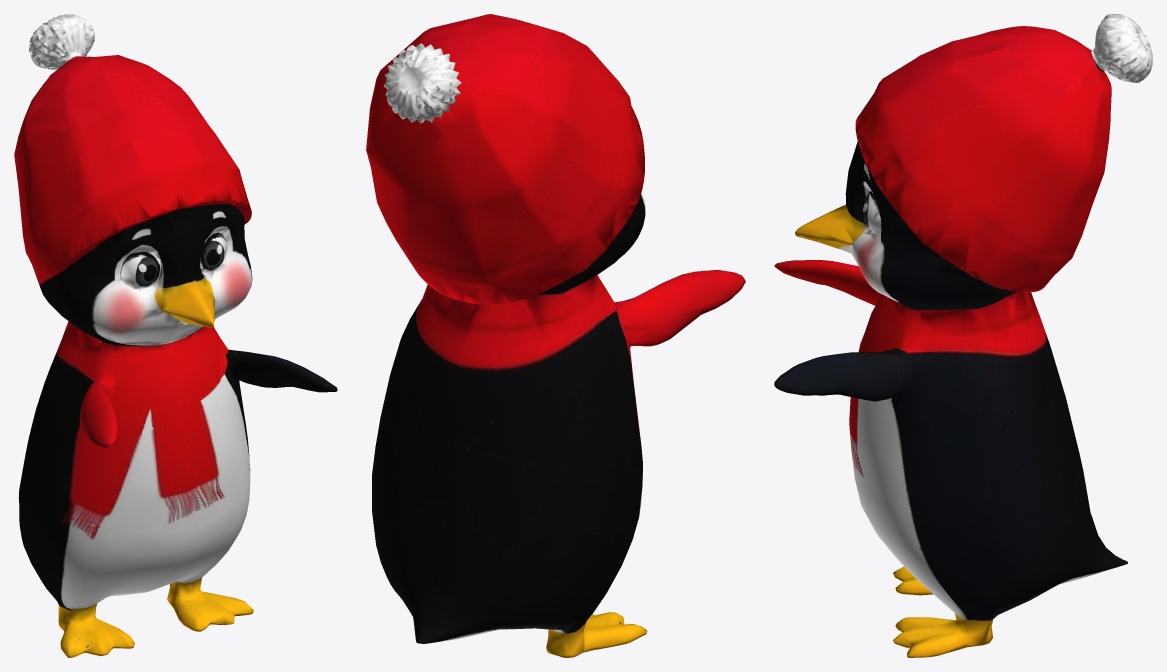
File: penguin-cute.glb
3 views of the same model, side by side, from view 1: azimuth 30°, elevation 25°; view 2: azimuth 150°, elevation 25°; view 3: azimuth 270°, elevation 25° (orthographic). The views are drawn at different scales.
Visible parts, largest first — view 1: Mesh_0; view 2: Mesh_0; view 3: Mesh_0.
Part boxes in pixels (bbox=[...]): Mesh_0: bbox=[14, 14, 337, 657]; Mesh_0: bbox=[366, 14, 745, 657]; Mesh_0: bbox=[774, 14, 1152, 657].
Size of the model in its own units: 4.46 by 9.99 by 5.77.
Materials: 1 (1 with a texture image).
